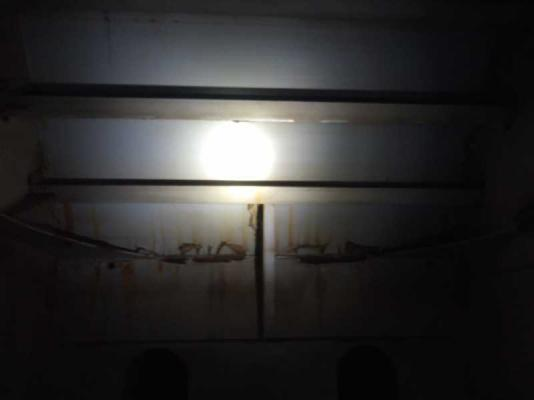corrosion: (153, 219, 243, 272), (283, 209, 336, 251)
